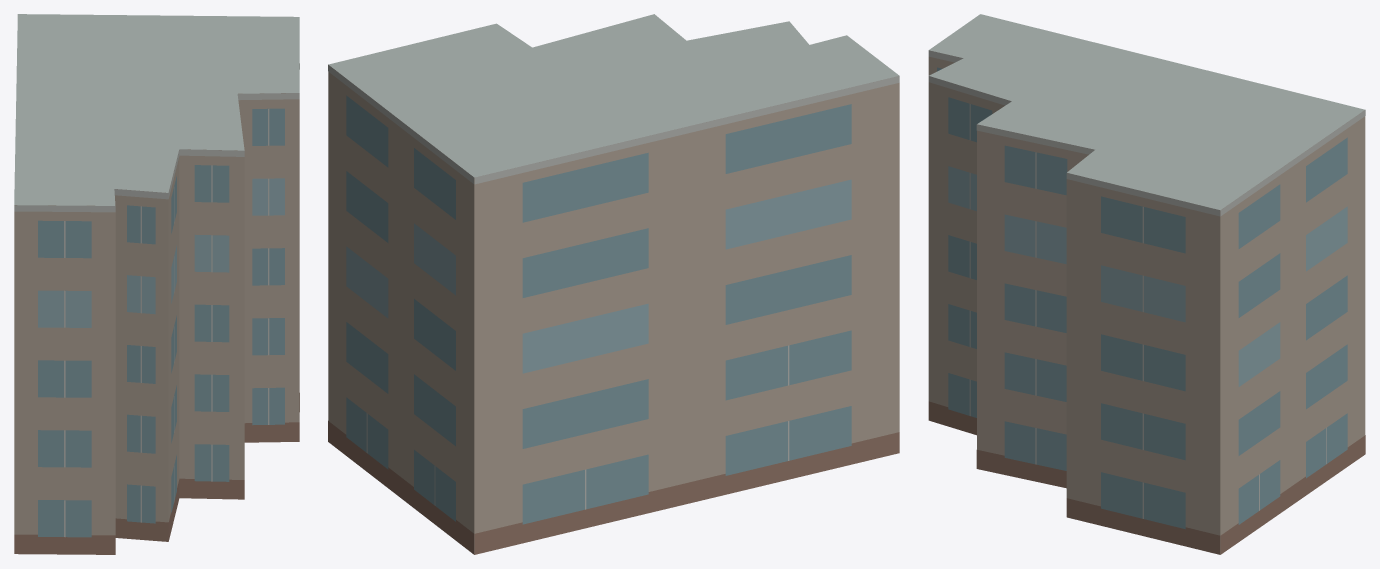
File: survey-upis-32915076.glb
3 renders of one model, left to right at view 1: azimuth 30°, elevation 25°; view 2: azimuth 150°, elevation 25°; view 3: azimuth 270°, elevation 25°, orthographic. The views are drawn at different scales.
Parts seen in each view (by area): view 1: survey-upis-32915076.tmp; view 2: survey-upis-32915076.tmp; view 3: survey-upis-32915076.tmp.
Boxes of the visible parts, x1,y1,x2,y2 form: survey-upis-32915076.tmp: [14, 14, 299, 554]; survey-upis-32915076.tmp: [328, 14, 899, 554]; survey-upis-32915076.tmp: [928, 14, 1365, 554].
Size of the model in its own units: 16.25 by 13.3 by 15.29.
